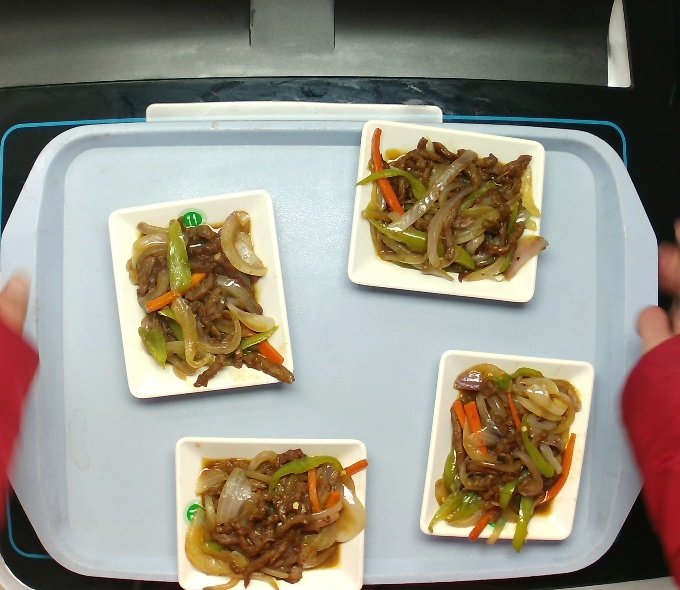wcq-NiuYangCongNiuLiu: (423, 354, 584, 548), (358, 125, 549, 285), (123, 202, 287, 387), (178, 438, 367, 584)
